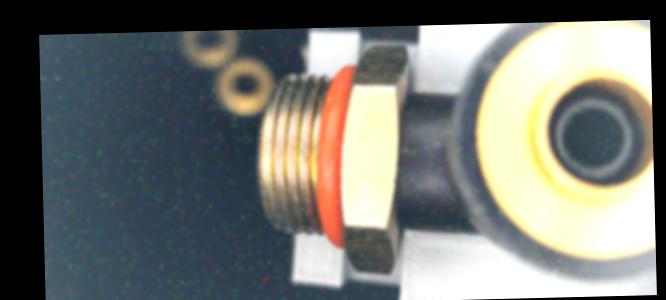white mark: (399, 142, 414, 159)
